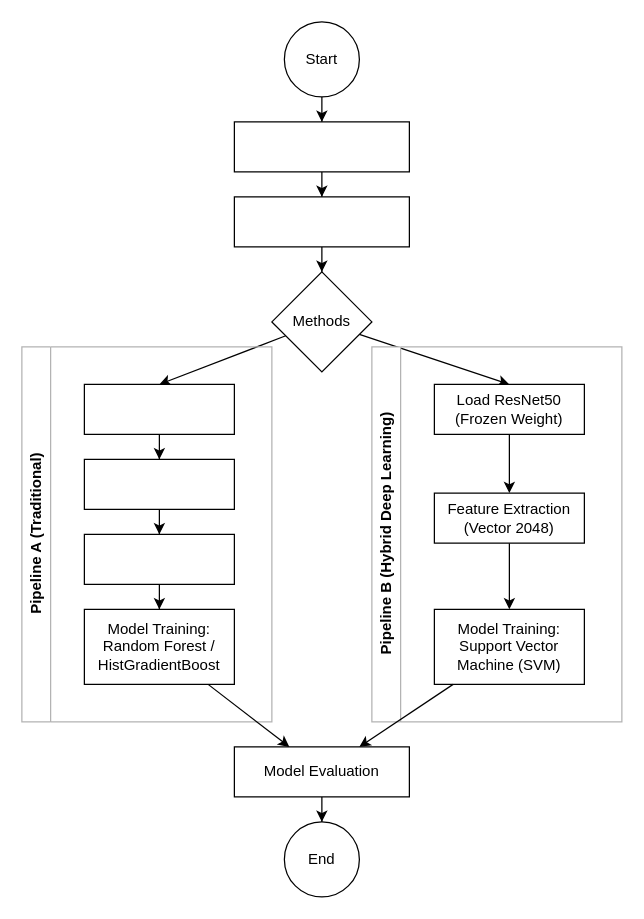
Image size: 644x919. Some labels were removed from this diagram. The shapes that lost their labels are listed below. From the top down, each one's centre as x and y in pixels, then its label:
At (x=321, y=146): "Input 20.000 Images".
At (x=321, y=221): "Validation & Cleaning".
At (x=158, y=408): "Resize 64x64".
At (x=158, y=483): "Hist. Equalization".
At (x=158, y=558): "Flatten Pixel".
